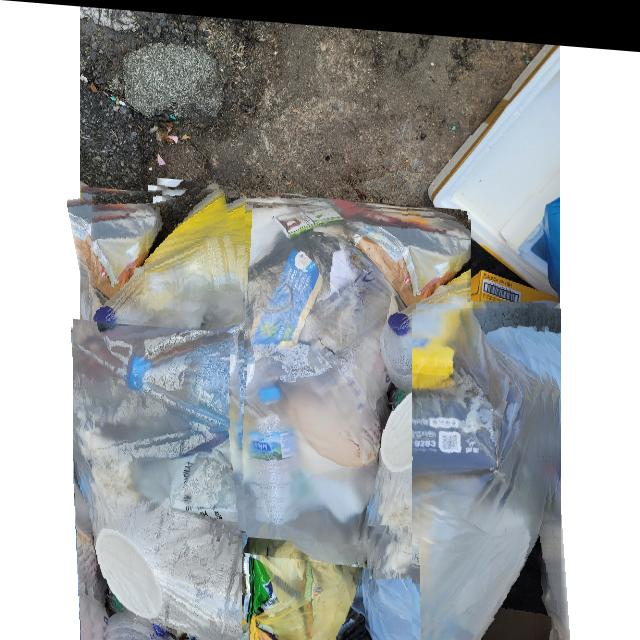other_trashbag: (160, 197, 470, 560), (73, 319, 251, 640), (412, 299, 551, 640), (88, 183, 244, 367), (367, 522, 473, 640), (241, 538, 358, 640)
